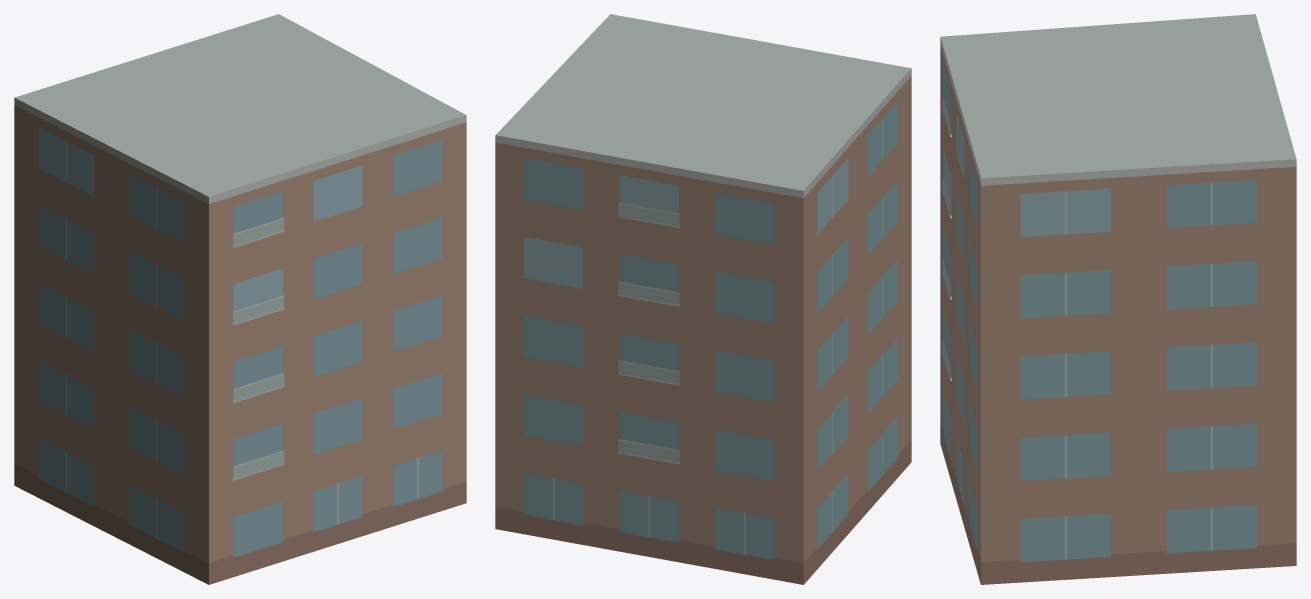
The model's file is survey-upis-32620232.glb.
3 views of the same model, side by side, from view 1: azimuth 30°, elevation 25°; view 2: azimuth 150°, elevation 25°; view 3: azimuth 270°, elevation 25° (orthographic). The views are drawn at different scales.
Parts seen in each view (by area): view 1: survey-upis-32620232.tmp; view 2: survey-upis-32620232.tmp; view 3: survey-upis-32620232.tmp.
Part boxes in pixels (x1=…): survey-upis-32620232.tmp: x1=14, y1=14, x2=466, y2=584; survey-upis-32620232.tmp: x1=495, y1=14, x2=911, y2=584; survey-upis-32620232.tmp: x1=940, y1=14, x2=1296, y2=584.
Bounding box in the file's own units: 11.45 × 13.2 × 10.49.
